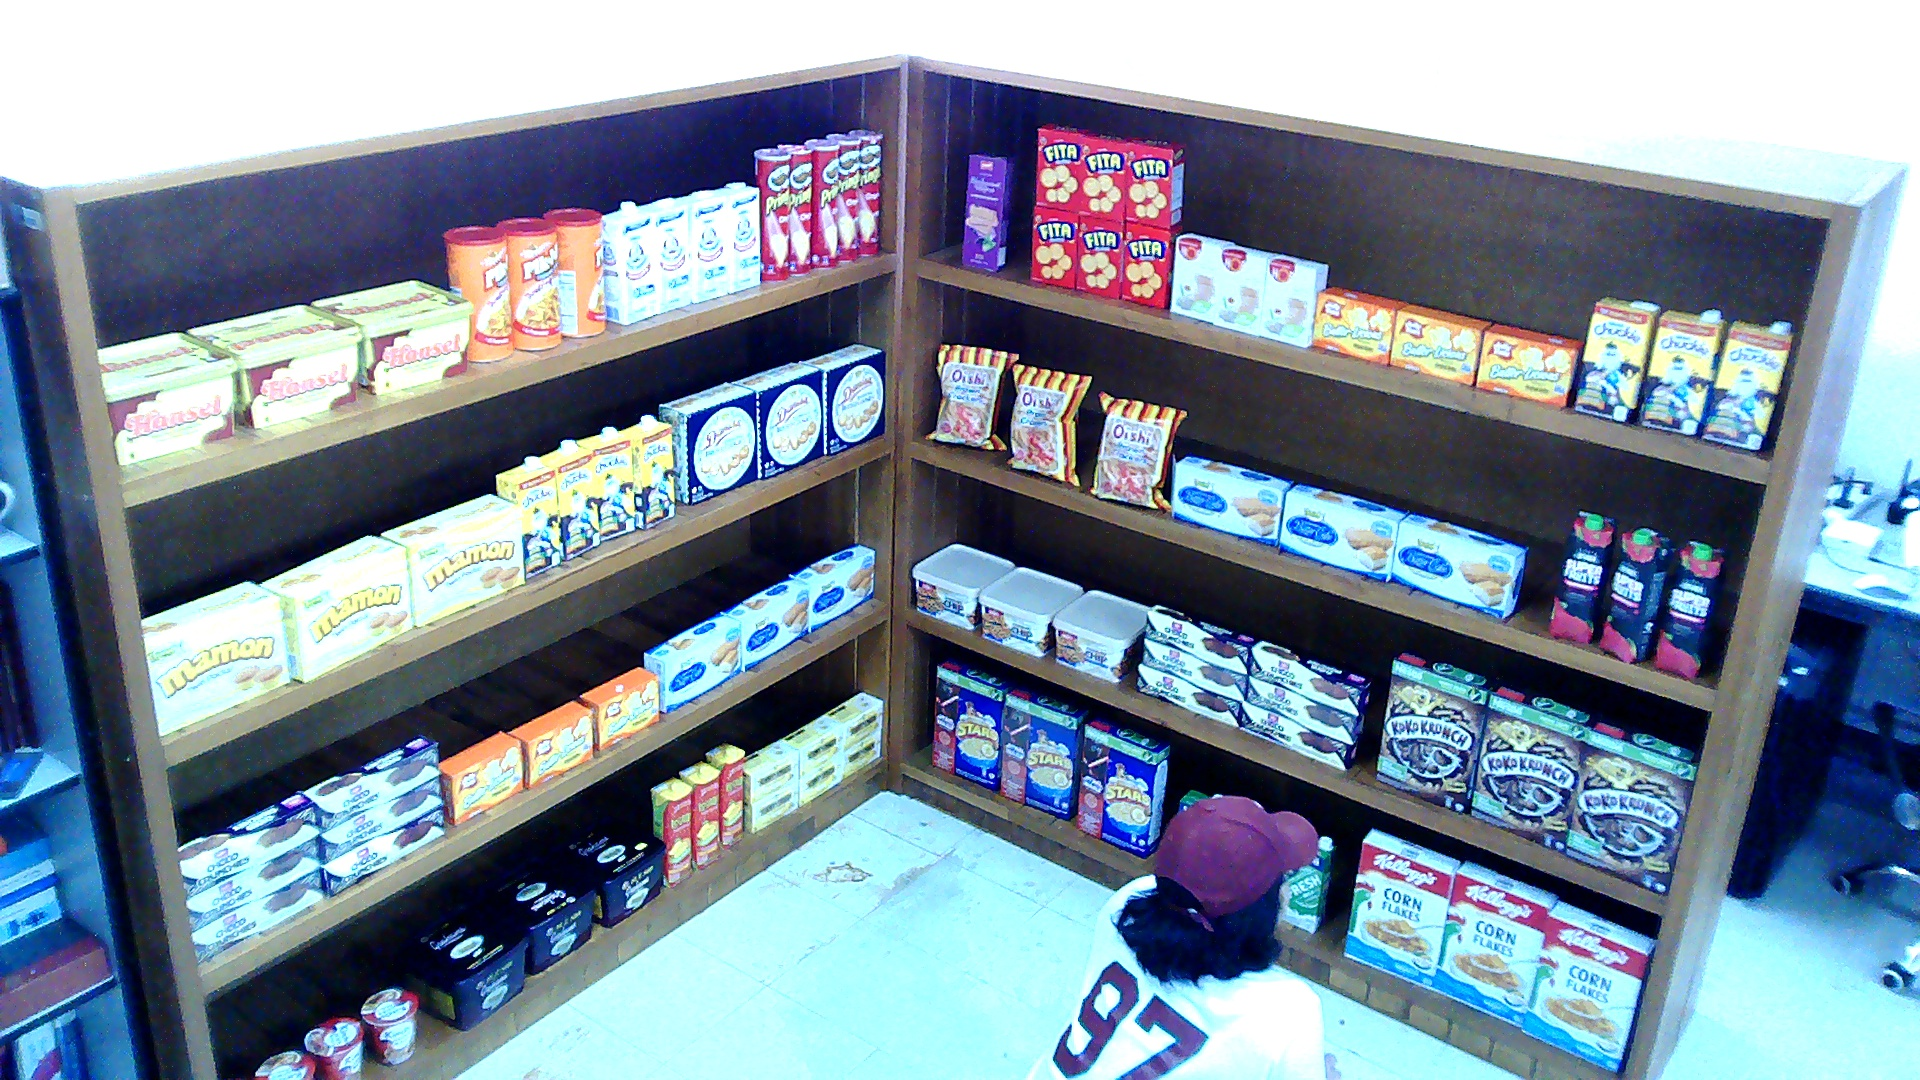Bear brand: (603, 200, 657, 324), (642, 197, 690, 312), (678, 191, 726, 301), (714, 184, 759, 290)
Buttercake: (1389, 513, 1527, 621), (1278, 483, 1407, 580), (1173, 455, 1293, 545), (641, 612, 740, 711), (719, 576, 806, 670), (789, 542, 873, 630)
Butterlicious: (1476, 324, 1584, 407), (1392, 303, 1494, 384), (440, 731, 521, 825), (1311, 286, 1410, 362), (507, 700, 591, 788), (578, 666, 659, 752)
Camomille: (779, 715, 842, 774), (822, 693, 882, 747), (743, 740, 794, 801), (743, 783, 794, 832), (798, 756, 840, 805), (843, 731, 879, 778)
Choco Crunchies: (177, 792, 321, 900), (303, 733, 441, 832), (185, 839, 320, 933), (191, 871, 326, 963), (317, 778, 440, 861), (324, 810, 444, 893), (1247, 639, 1370, 713), (1245, 677, 1365, 745), (1239, 702, 1359, 770), (1145, 603, 1256, 675), (1137, 665, 1239, 726), (1143, 638, 1245, 699)
Chocolate Chips: (978, 567, 1083, 657), (912, 542, 1014, 630), (1050, 590, 1143, 682)
Chuckie: (1701, 320, 1791, 450), (1637, 308, 1724, 434), (1572, 297, 1656, 423), (495, 457, 561, 579), (543, 438, 597, 557), (621, 413, 675, 530), (579, 427, 633, 542)
Danisa: (660, 380, 756, 504), (735, 360, 822, 479), (801, 341, 885, 454)
Fita: (1125, 137, 1185, 227), (1122, 220, 1170, 308), (1077, 213, 1125, 299), (1034, 126, 1079, 209), (1032, 207, 1077, 288), (1083, 135, 1125, 218)
Fresh Milk: (1278, 837, 1335, 931)
Grahams: (396, 904, 528, 1028), (474, 862, 594, 972), (546, 817, 663, 927)
Hansel: (189, 301, 363, 427), (96, 330, 237, 465), (308, 278, 473, 393)
Head: (1130, 790, 1319, 972)
Honey Stars: (1076, 713, 1169, 859), (999, 683, 1089, 818), (929, 656, 1016, 791)
Kellogg Corn Flakes: (1524, 900, 1656, 1071), (1431, 859, 1557, 1028), (1344, 828, 1461, 990)
Kimchi Noodles: (360, 988, 417, 1064), (303, 1016, 363, 1075), (255, 1048, 315, 1077)
Koko Krunch: (1565, 718, 1700, 898), (1470, 681, 1596, 852), (1373, 650, 1496, 814)
Locally Mango: (648, 775, 693, 888), (678, 761, 720, 871), (705, 740, 744, 848)
Mamon: (141, 578, 288, 738), (261, 536, 408, 682), (380, 495, 521, 625)
Oishi Prawn: (1085, 389, 1184, 508), (1005, 362, 1092, 486), (924, 344, 1020, 450)
Pik-nik: (441, 224, 513, 359), (495, 215, 561, 348), (543, 207, 603, 335)
Pringles: (753, 146, 789, 281), (825, 133, 861, 261), (776, 143, 809, 276), (804, 140, 837, 268), (848, 128, 881, 256)
Super Fruits: (1599, 526, 1671, 663), (1653, 540, 1725, 677), (1545, 508, 1617, 643)
Wafer: (960, 153, 1014, 272)
iHop: (1260, 255, 1326, 349), (1215, 243, 1275, 335), (1170, 232, 1230, 322)
